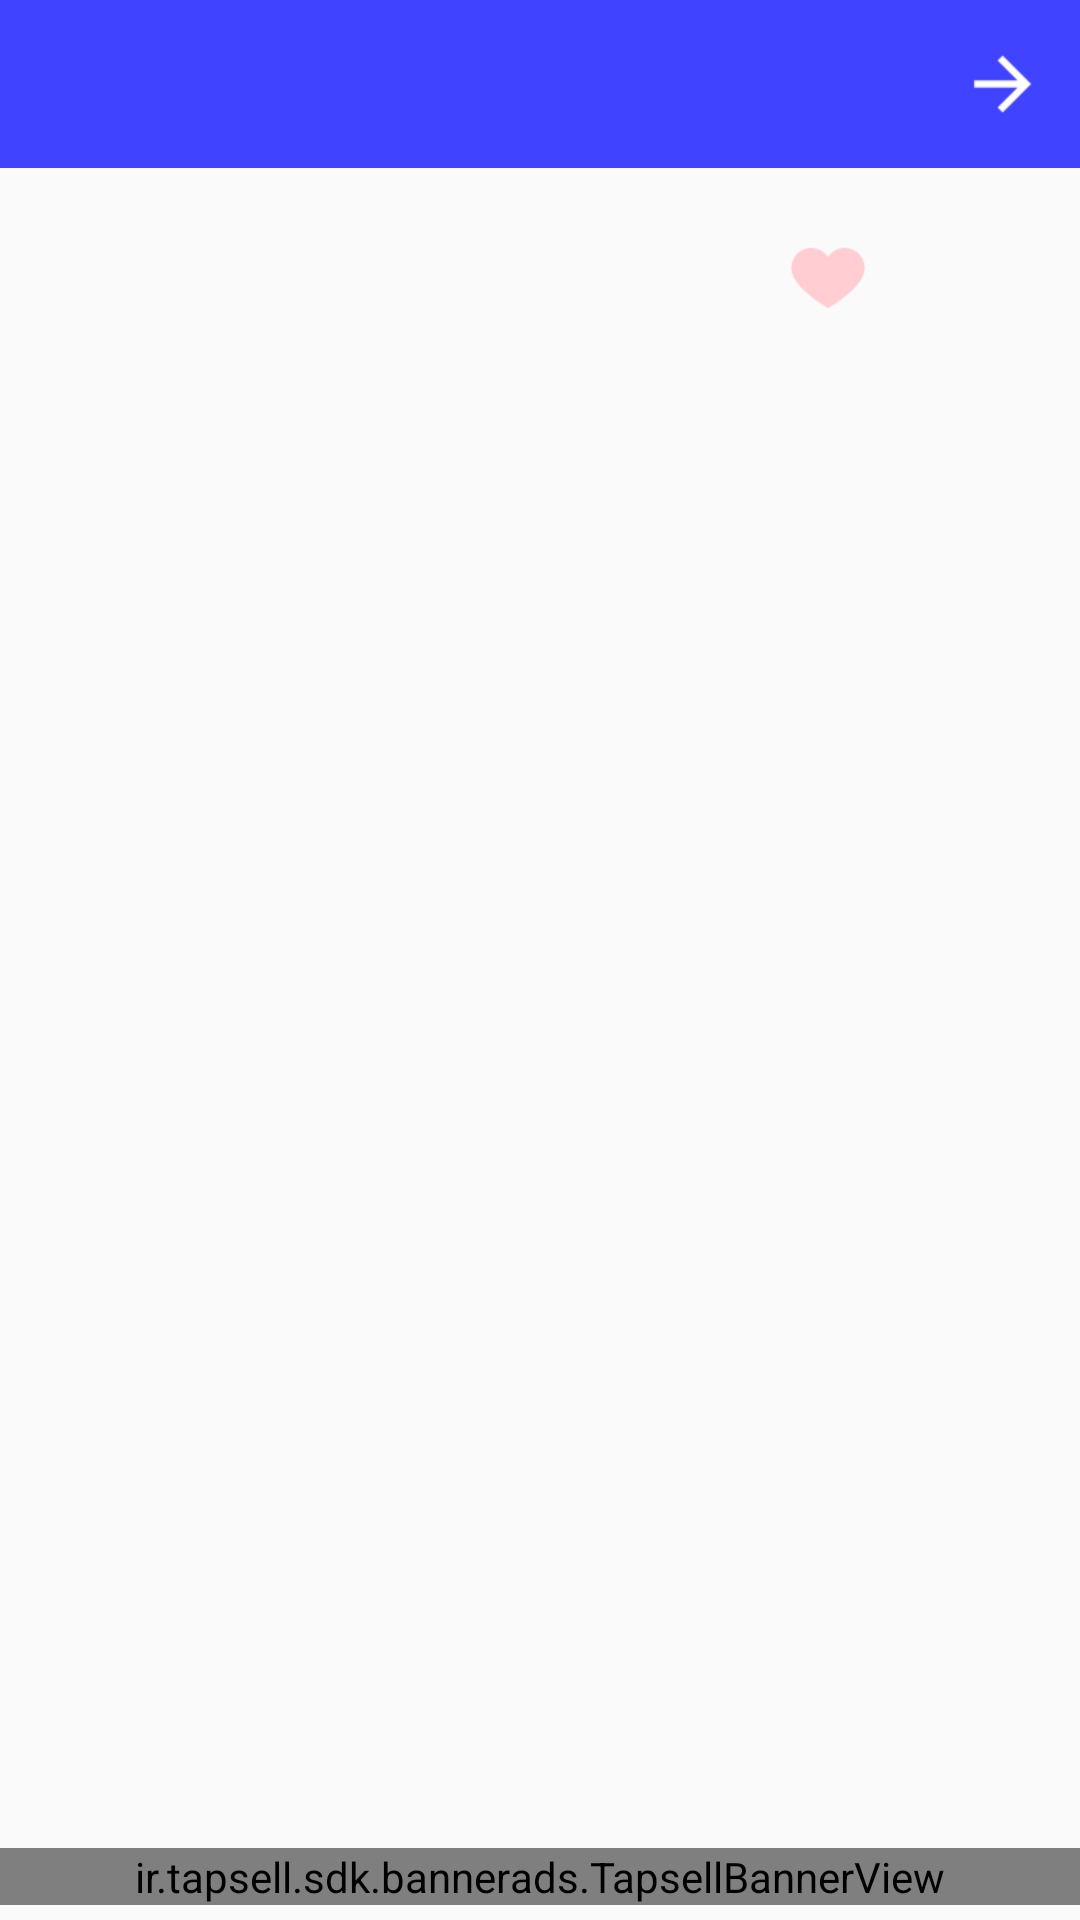

Icon click points for this 1080px x 1920px phone screenshot, format point (x, y):
emptyheart: point (828, 278)
